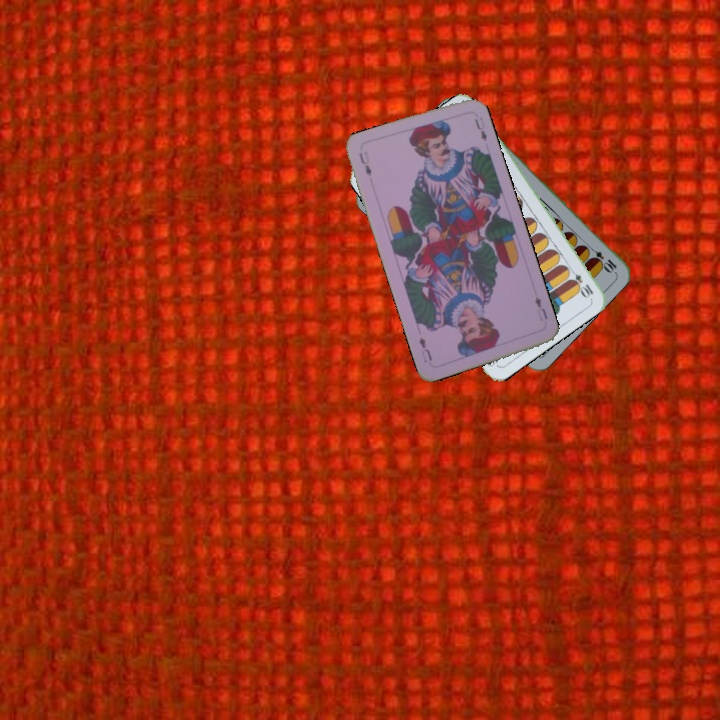E10: (584, 242, 619, 275), (564, 264, 596, 300)
EU: (531, 292, 550, 324), (355, 147, 374, 179)
